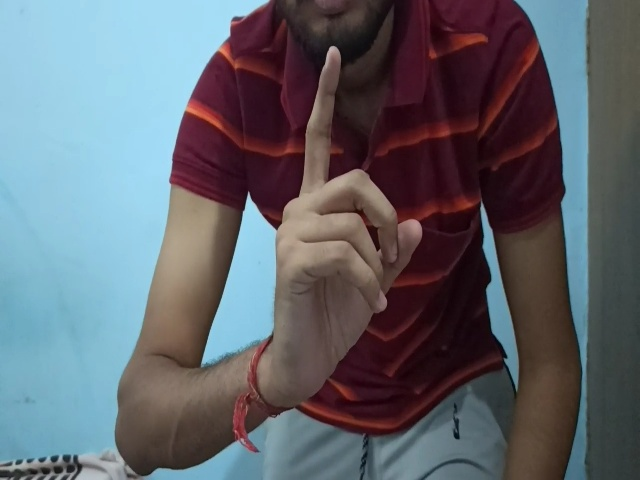D: (273, 43, 424, 405)
